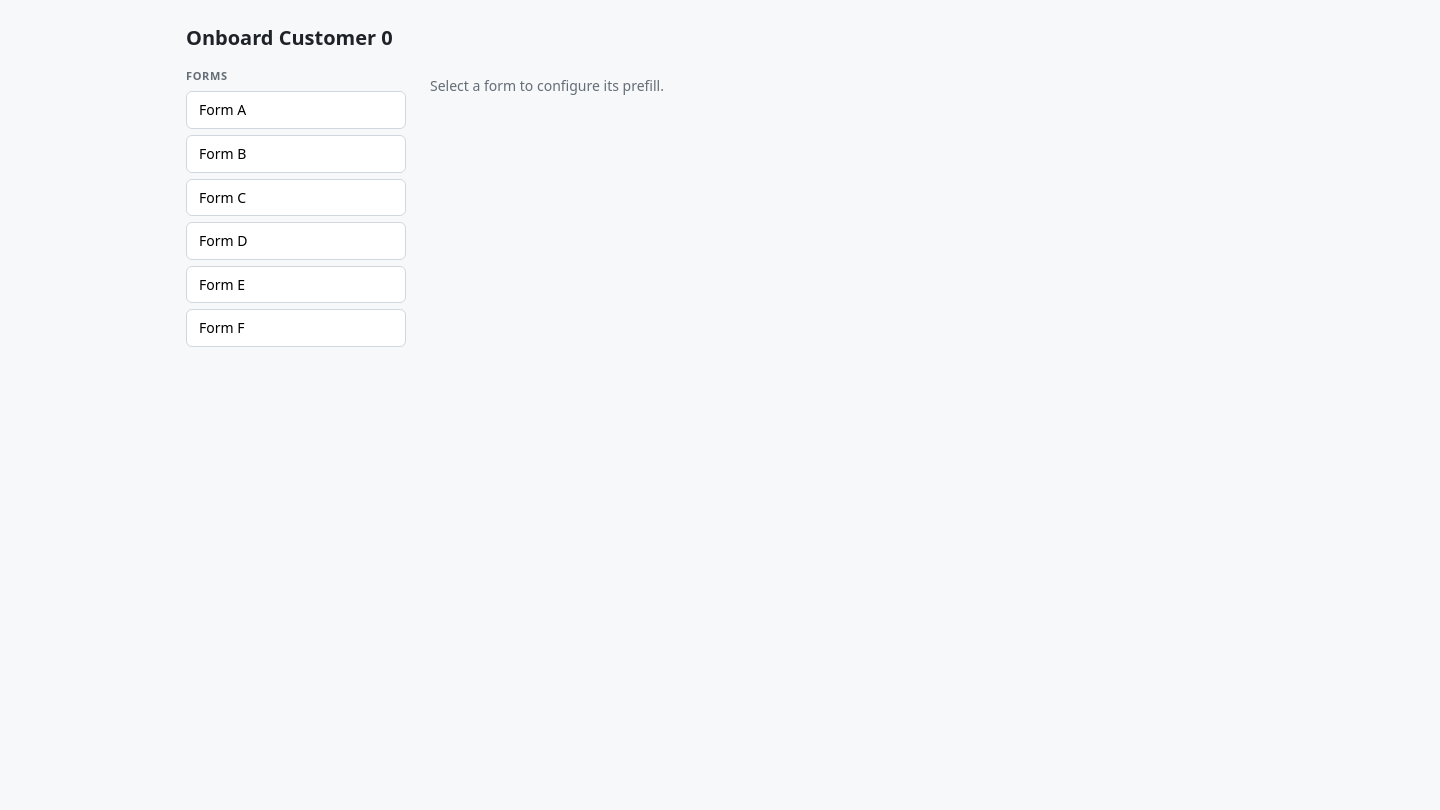
Test: the prefill flow › leaves the field unmapped on Cancel and returns focus to the row
This screenshot has width=1440, height=810.
Expected: the heading "Onboard Customer 0" is shown, [186,24,393,51]
Click the button "Form D": (296,241) [186,222,406,260]
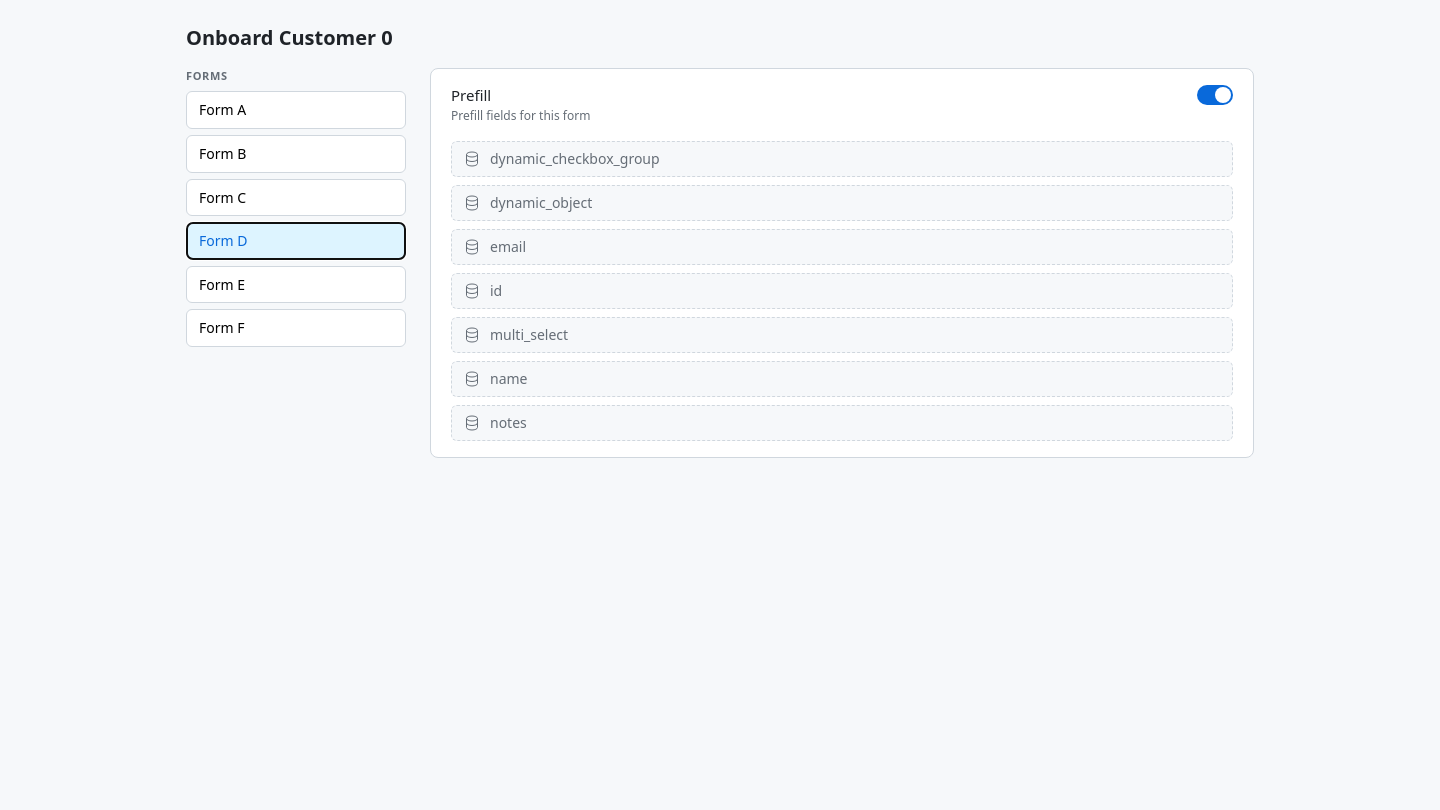
Click the button with aria-label "email, no prefill configured": (508,246) [451,229,1233,265]
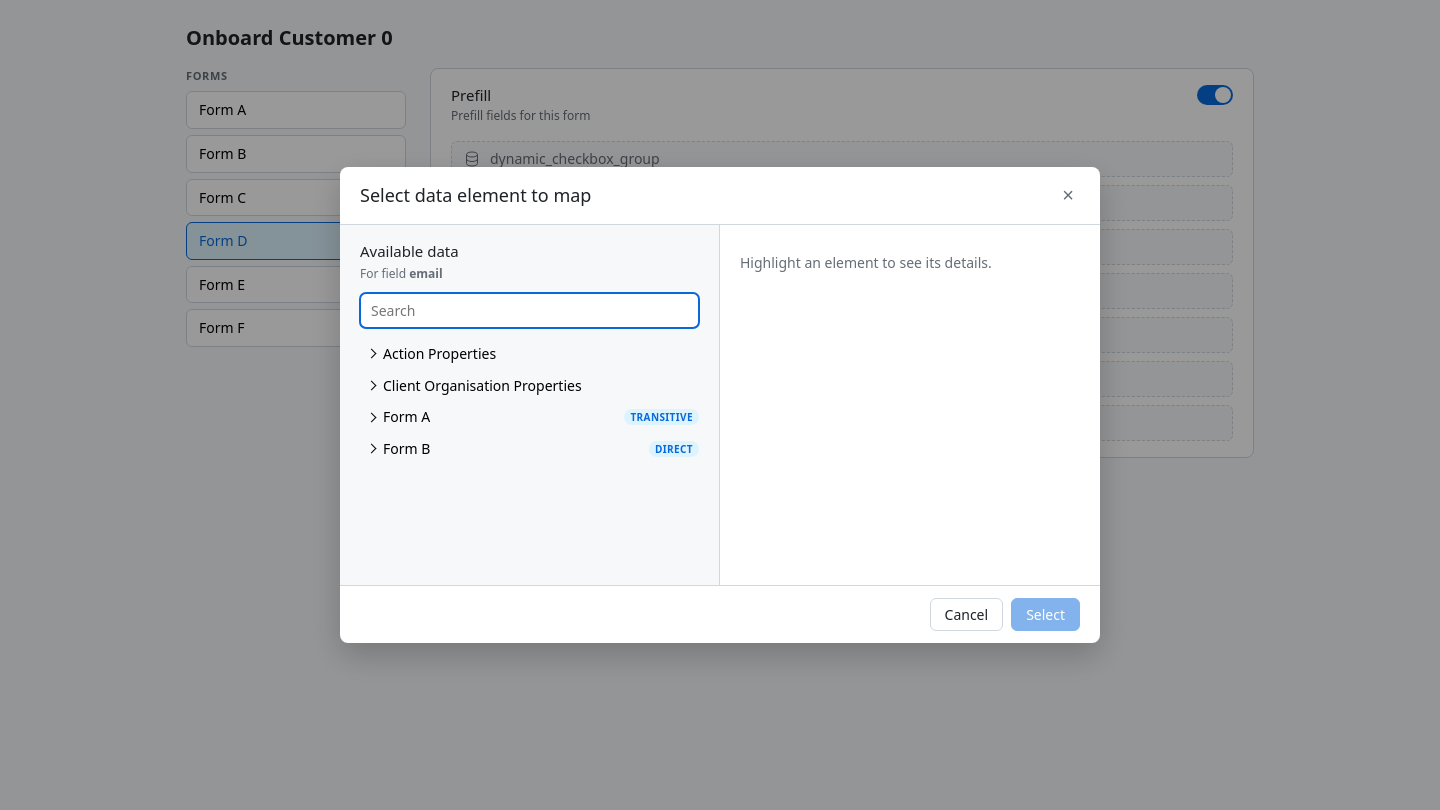
Click the button "Form A": (488,417) [360,401,616,433]
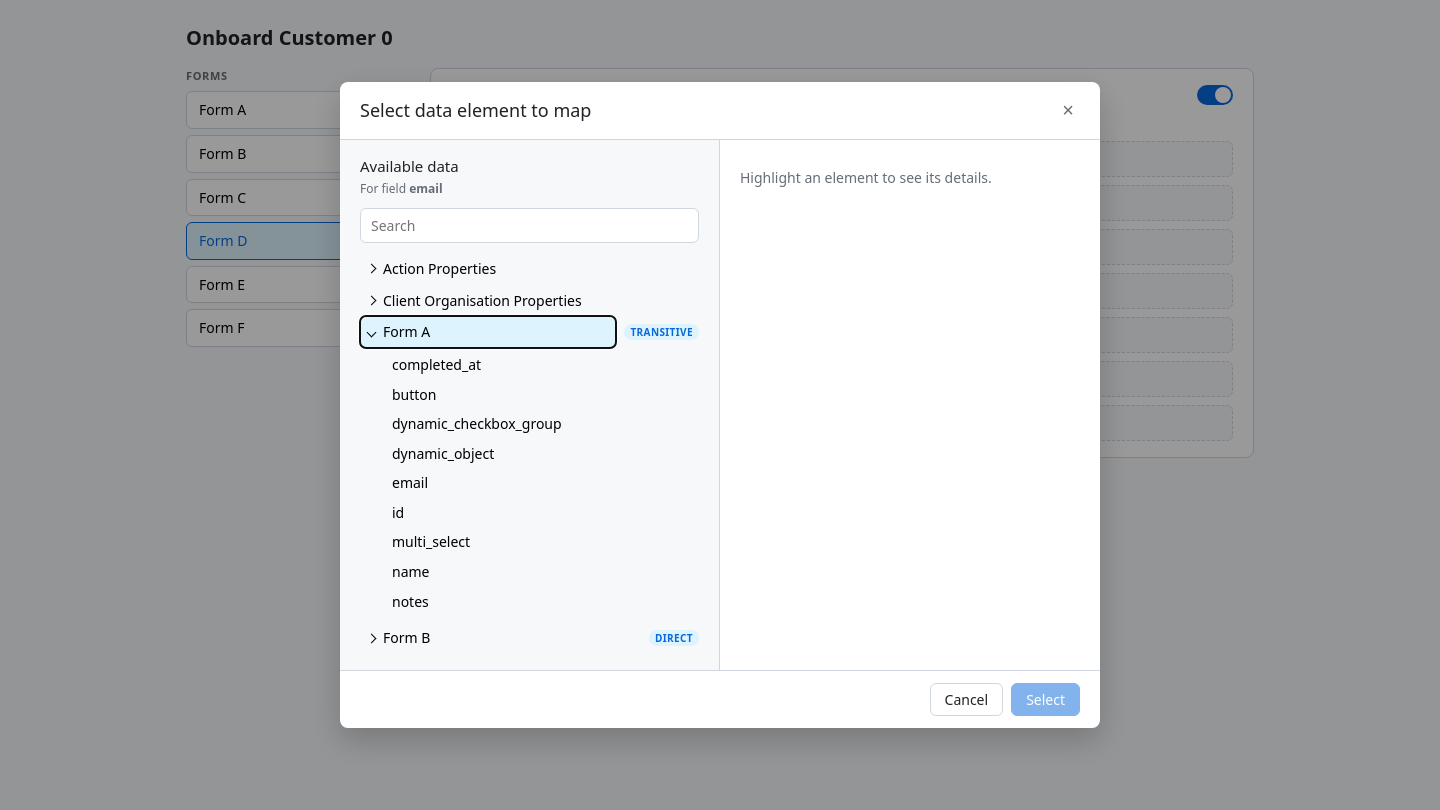
Click the button "email": (410,483) [384,468,699,498]
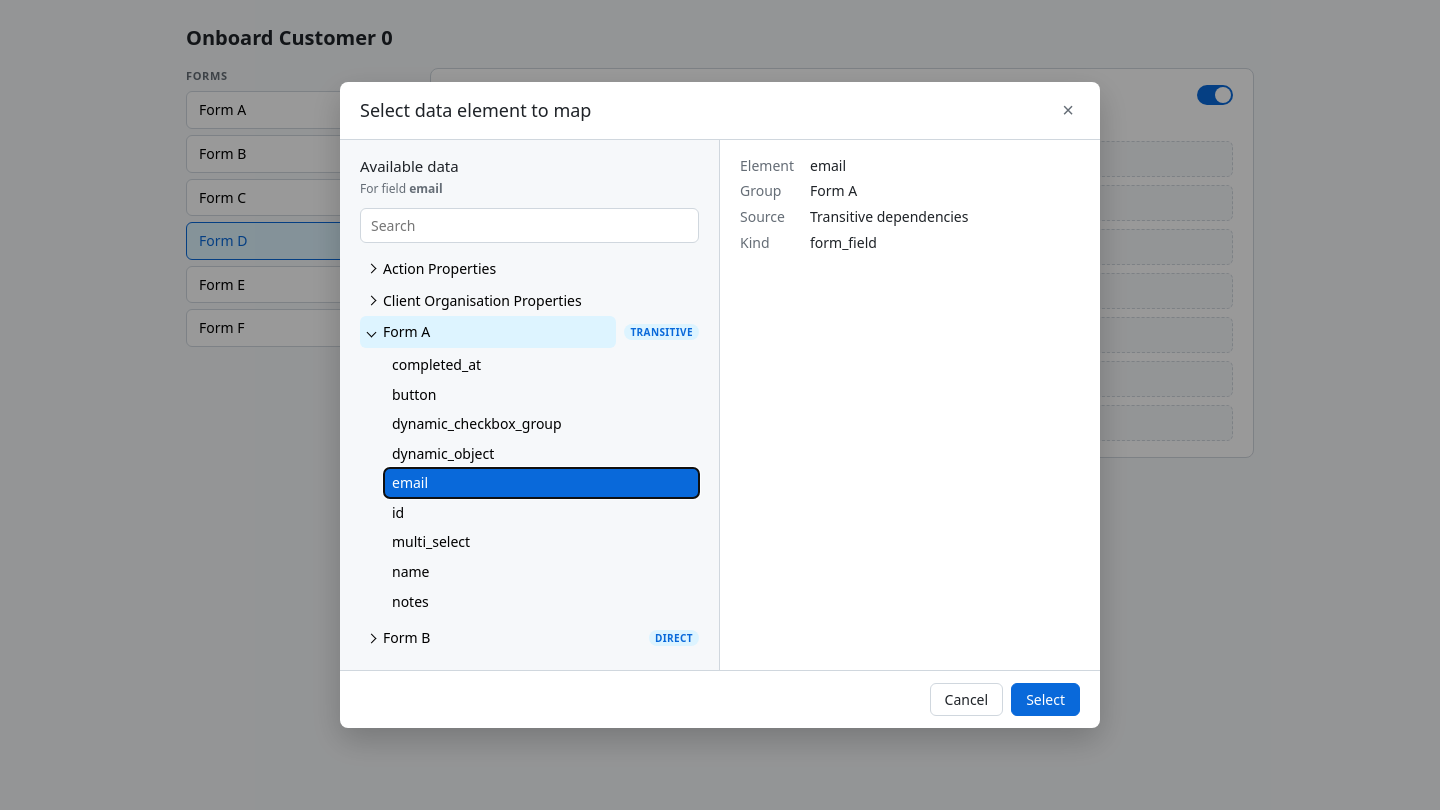
Click the button "Cancel": (966,700) [930,683,1003,716]
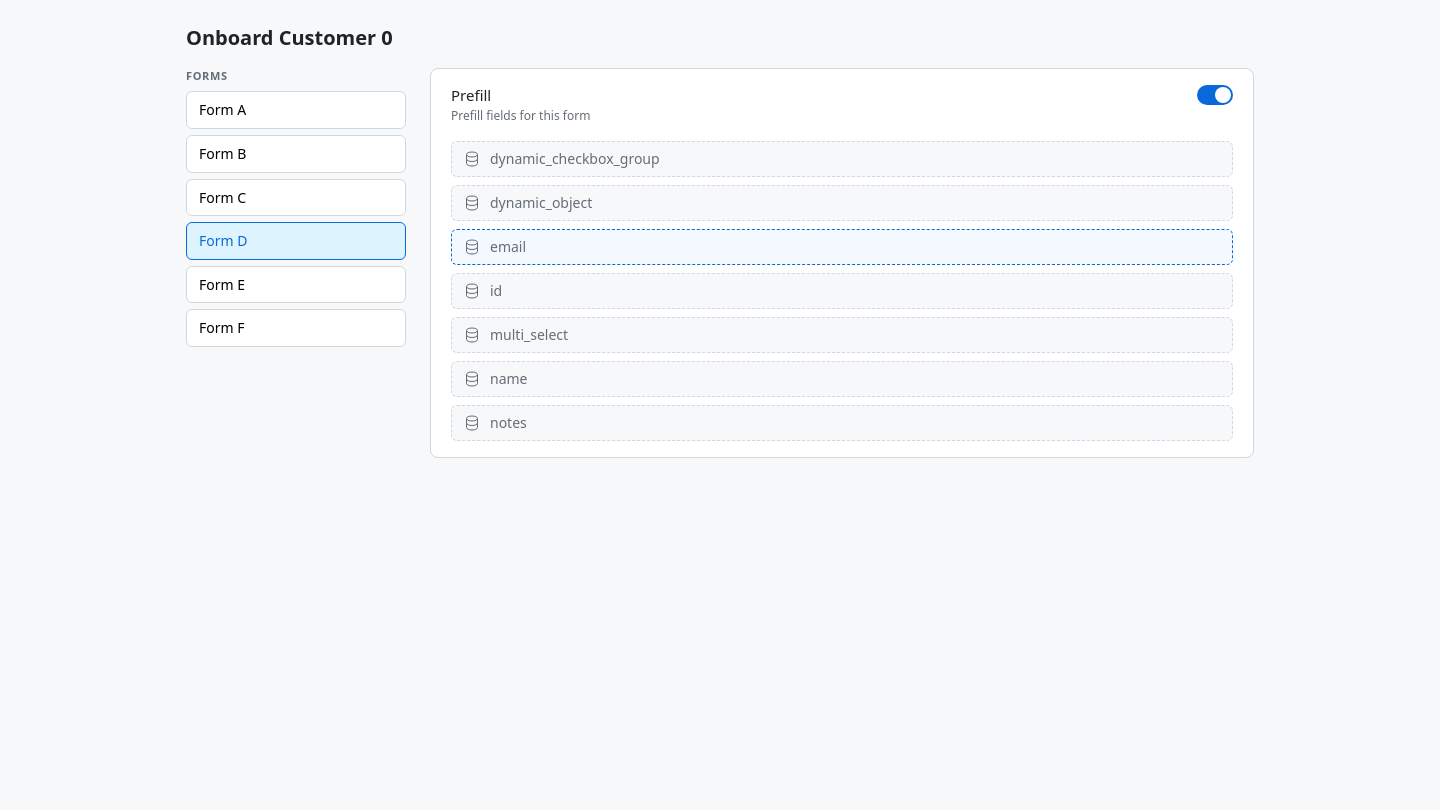
Expected: the dialog is gone
